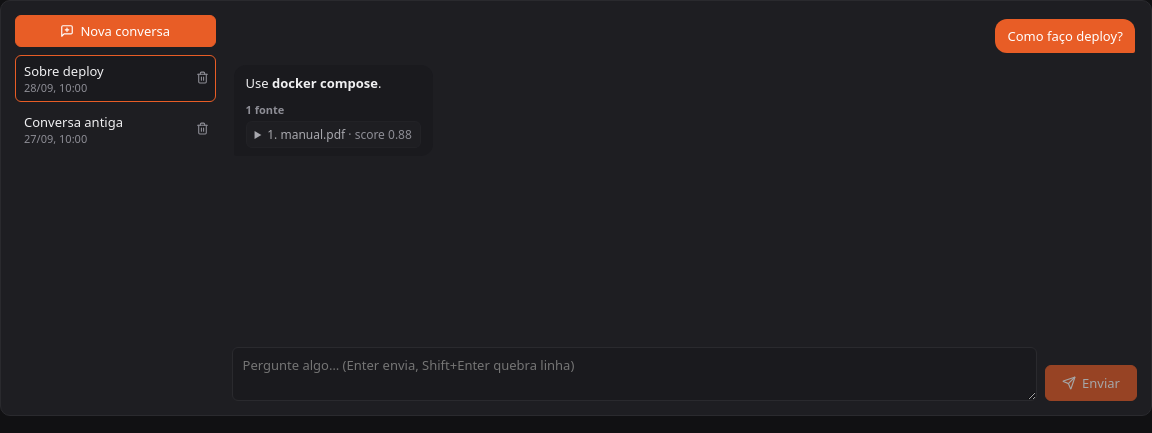
Test: KbChat › trocar de conversa carrega as mensagens dela
Expected: the text "Como faço deploy?" is shown, [996,19,1135,53]
Click the button "Conversa antiga 27/09, 10:00" at (101,130), box [16,107,186,152]
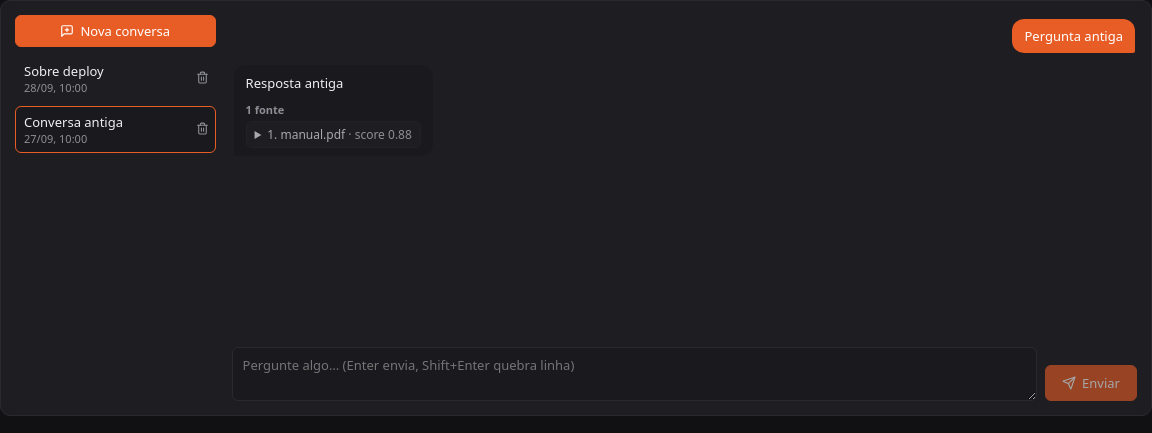
Result: the text "Pergunta antiga" is shown at [1012,19,1135,53]
Result: the text "Como faço deploy?" is gone
